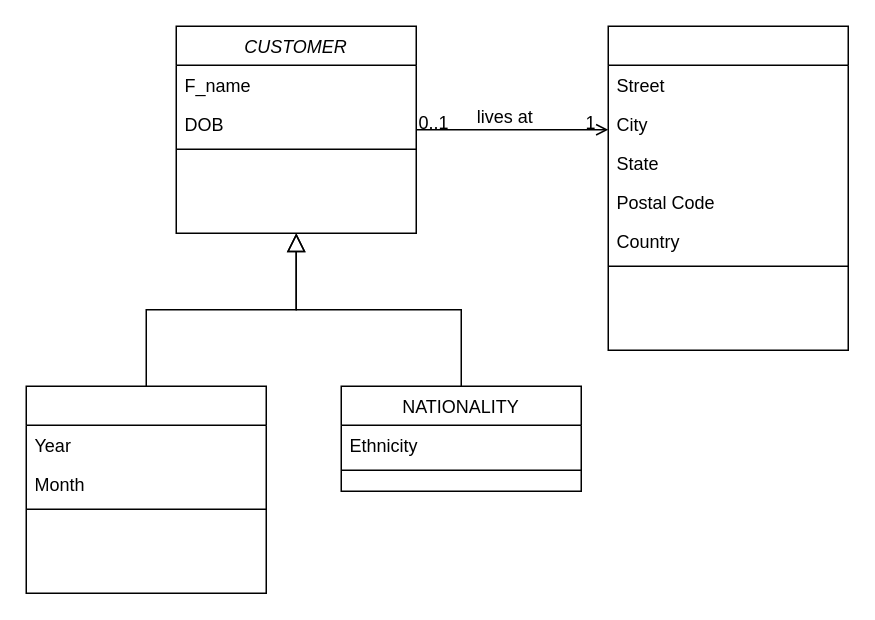
This 875x620 diagram has some shape labels left out. The shapes that lost their labels are listed below. From the top down, each one's box as (x1, y1, x2, y2) in pixels, then its label:
(607, 25, 848, 350): Address
(25, 385, 266, 593): Date Of Reg
